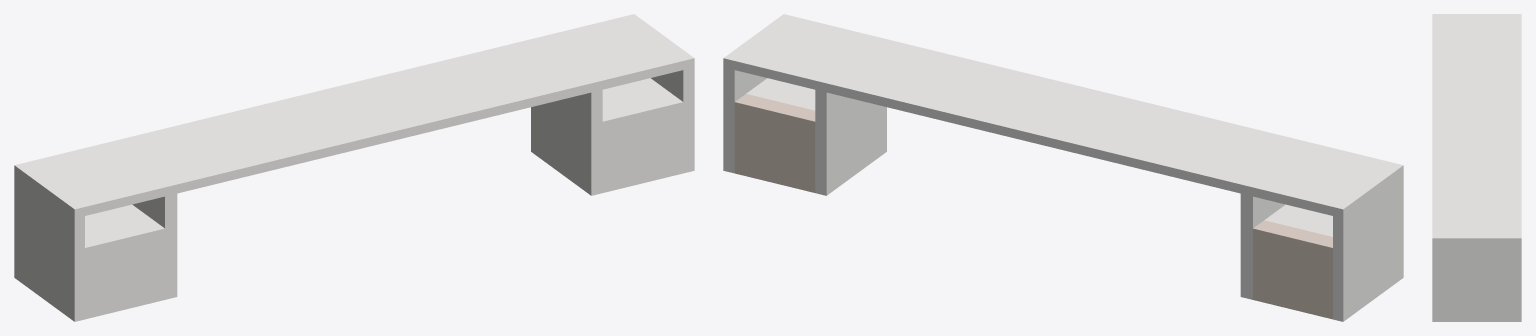
File: Table_24.fbx
3 renders of one model, left to right at view 1: azimuth 30°, elevation 25°; view 2: azimuth 150°, elevation 25°; view 3: azimuth 270°, elevation 25°, orthographic. The views are drawn at different scales.
Visible parts, largest first — view 1: Table_24; view 2: Table_24; view 3: Table_24.
Part boxes in pixels (x1,y1,x2,y2): Table_24: (14, 14, 694, 321); Table_24: (723, 14, 1403, 321); Table_24: (1432, 14, 1521, 321).
Bounding box in the file's own units: 488 × 82.37 × 84.69.
